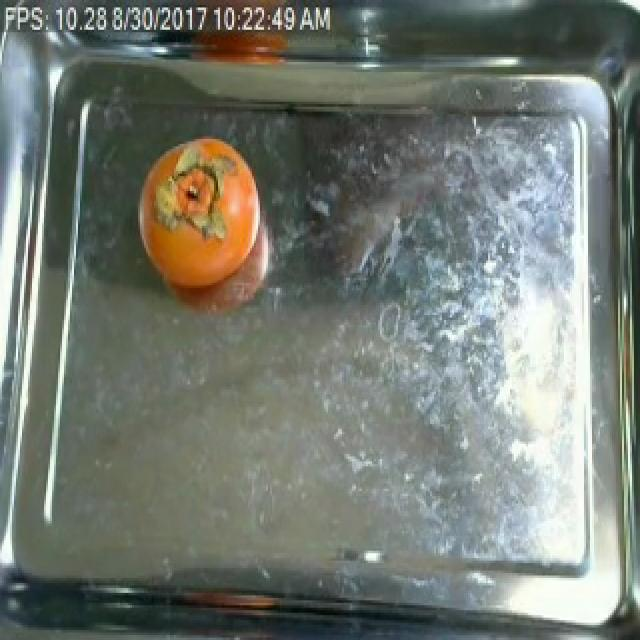Fruit: (128, 132, 266, 308)
